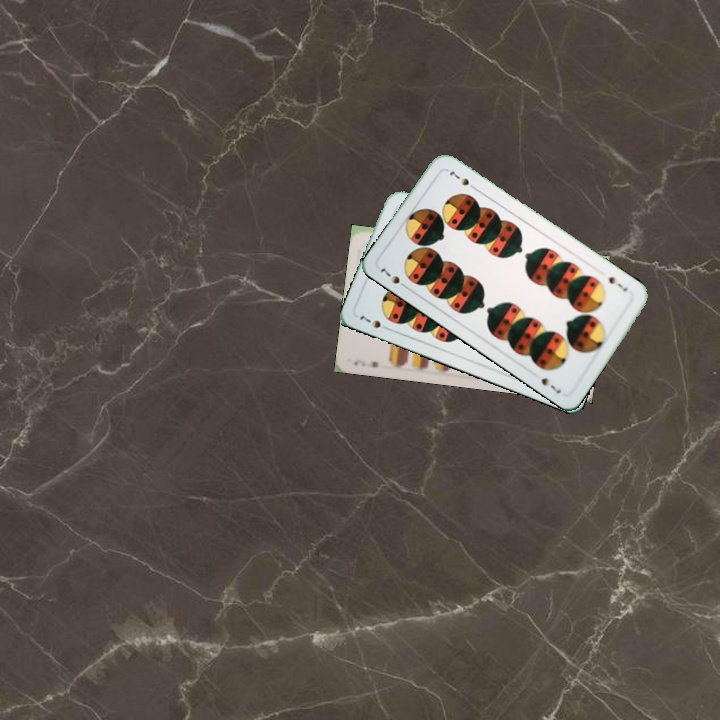E7: (350, 355, 381, 370)
S7: (376, 264, 411, 292), (355, 311, 393, 333), (604, 272, 630, 294)
